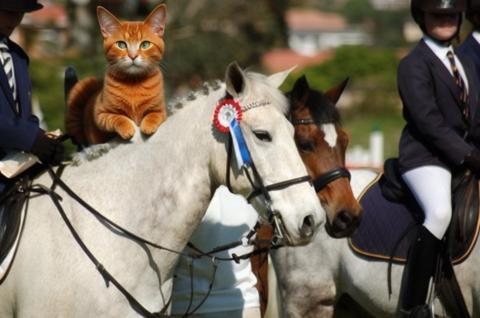cat: (65, 1, 167, 143)
horse: (1, 63, 325, 318), (287, 75, 362, 238)
person: (396, 1, 469, 316), (1, 1, 63, 169)
